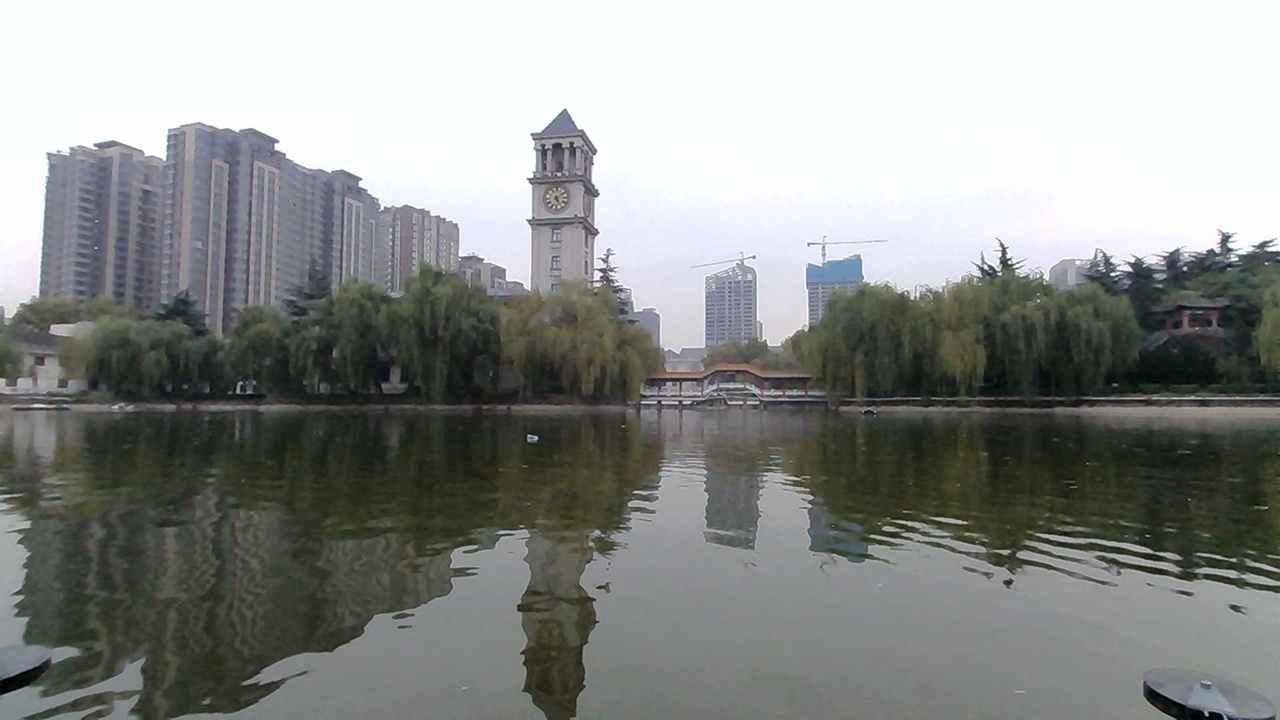bottle: (517, 426, 545, 448)
